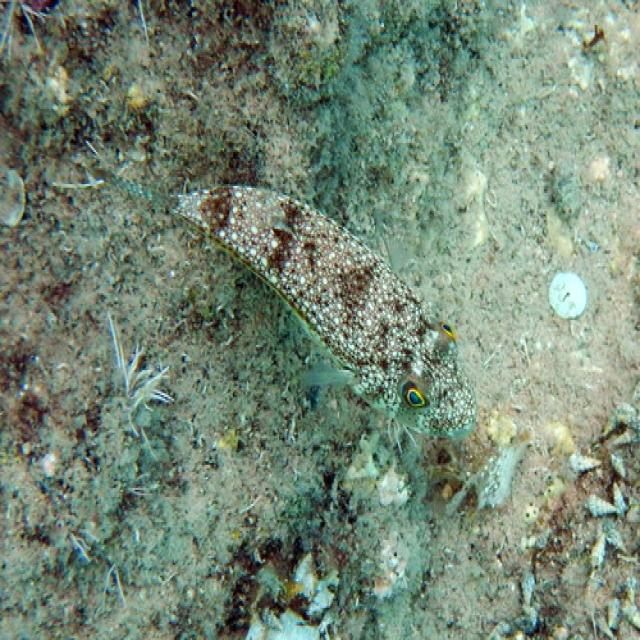Balik: (176, 186, 476, 436)
